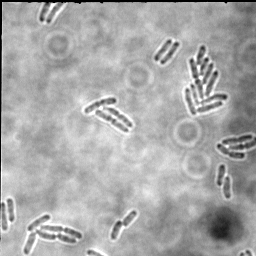Dividing: (109, 209, 138, 242), (94, 110, 129, 134), (102, 106, 134, 129), (82, 96, 118, 115), (215, 143, 246, 160), (228, 136, 256, 152), (221, 133, 253, 146)
Microcolony: (183, 43, 230, 116), (23, 213, 82, 255)
Rod: (159, 41, 181, 65), (153, 38, 173, 62), (5, 197, 16, 224), (216, 163, 227, 187), (222, 175, 232, 200), (1, 202, 8, 232)
